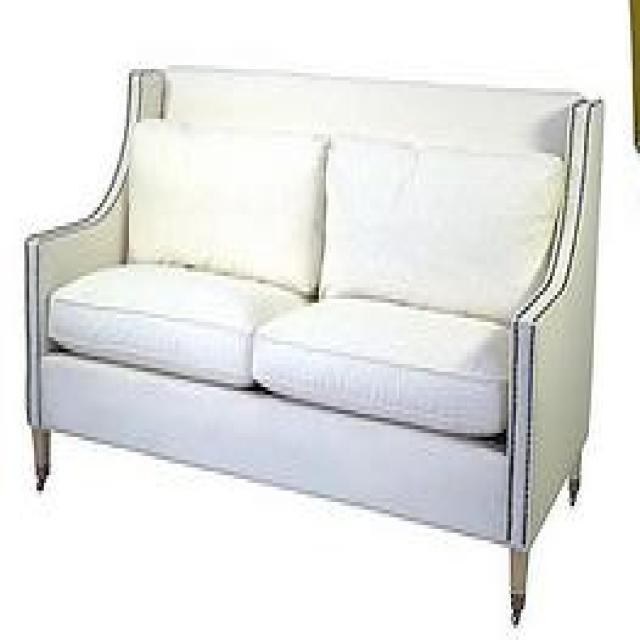sofa: (22, 61, 603, 625)
